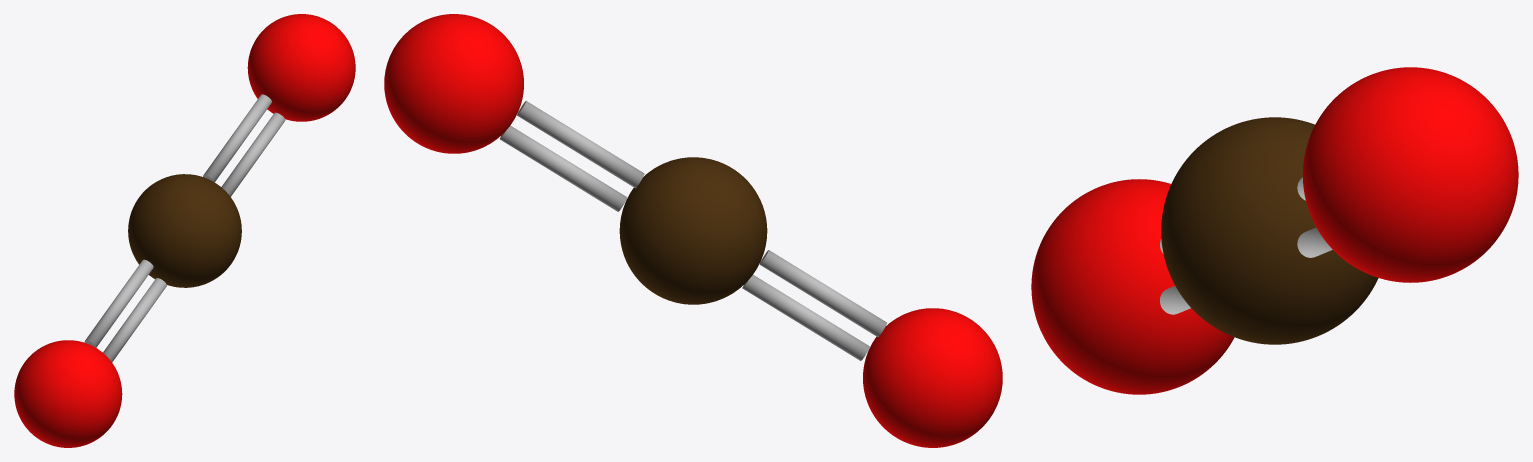
Rendered from CO₂.glb.
3 views of the same model, side by side, from view 1: azimuth 30°, elevation 25°; view 2: azimuth 150°, elevation 25°; view 3: azimuth 270°, elevation 25° (orthographic). The views are drawn at different scales.
Parts seen in each view (by area): view 1: CMAtom_0; view 2: CMAtom_0; view 3: CMAtom_0.
Part boxes in pixels (<box>): CMAtom_0: <box>14,14,355,447</box>; CMAtom_0: <box>384,14,1002,447</box>; CMAtom_0: <box>1031,67,1518,394</box>.
Bounding box in the file's own units: 0.2467 × 0.1796 × 0.1318.
